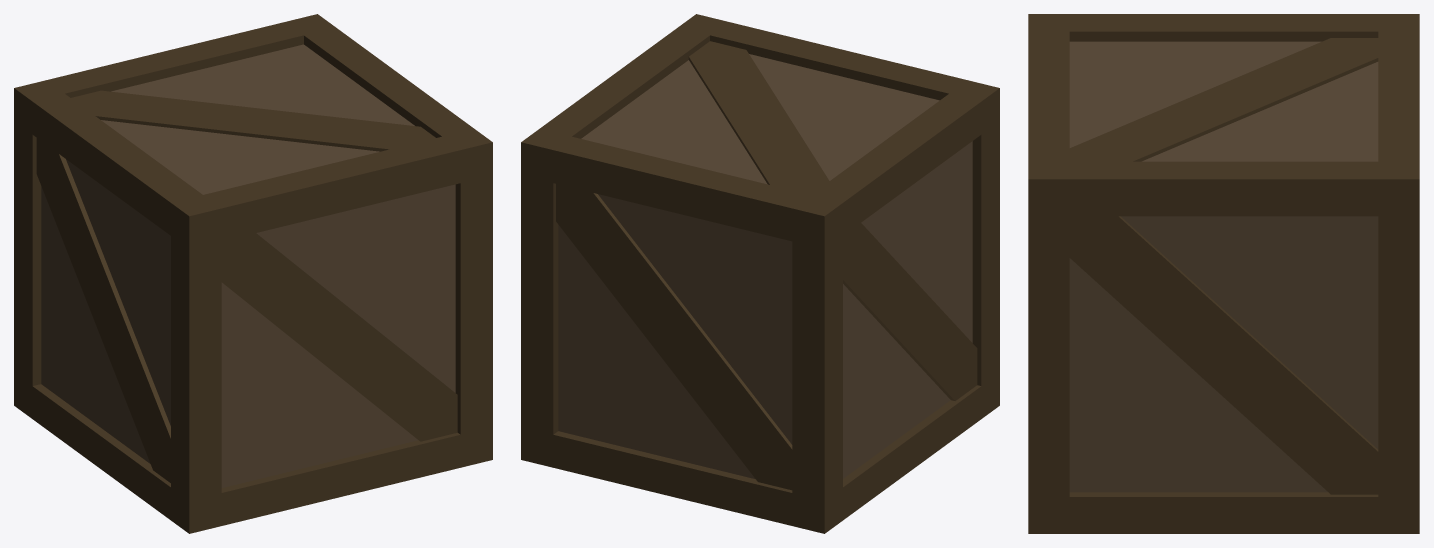
3 renders of one model, left to right at view 1: azimuth 30°, elevation 25°; view 2: azimuth 150°, elevation 25°; view 3: azimuth 270°, elevation 25°, orthographic. The views are drawn at different scales.
Visible parts, largest first — view 1: Cube.018; view 2: Cube.018; view 3: Cube.018.
Part boxes in pixels (left/top/right/bottom): Cube.018: left=14, top=14, right=492, bottom=533; Cube.018: left=521, top=14, right=999, bottom=533; Cube.018: left=1028, top=14, right=1419, bottom=533.
Size of the model in its own units: 200 by 200 by 200.
